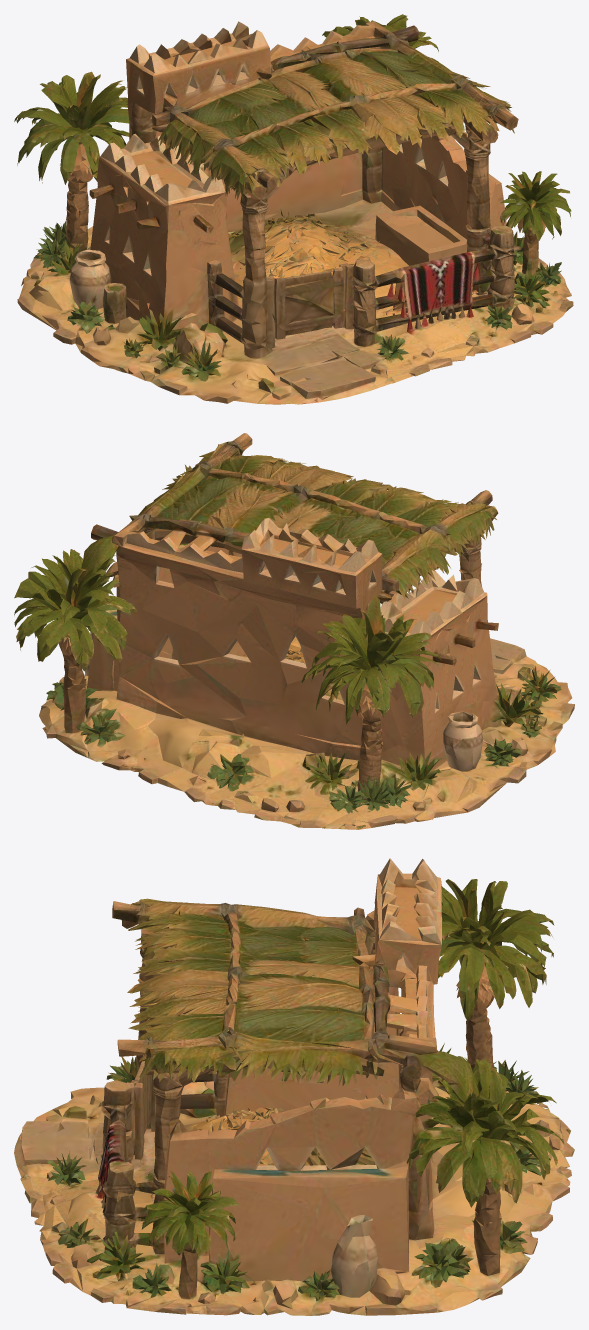
Rendered from stable.glb.
3 views of the same model, one above another, from view 1: azimuth 30°, elevation 25°; view 2: azimuth 150°, elevation 25°; view 3: azimuth 270°, elevation 25° (orthographic). The views are drawn at different scales.
Visible parts, largest first — view 1: stable; view 2: stable; view 3: stable.
Boxes of the visible parts, box(x1,y1,x2,y2) form: stable: box(14, 14, 573, 404); stable: box(14, 433, 574, 829); stable: box(14, 858, 574, 1315).
Size of the model in its own units: 1.9 by 0.9303 by 1.72.
Materials: 1 (1 with a texture image).
